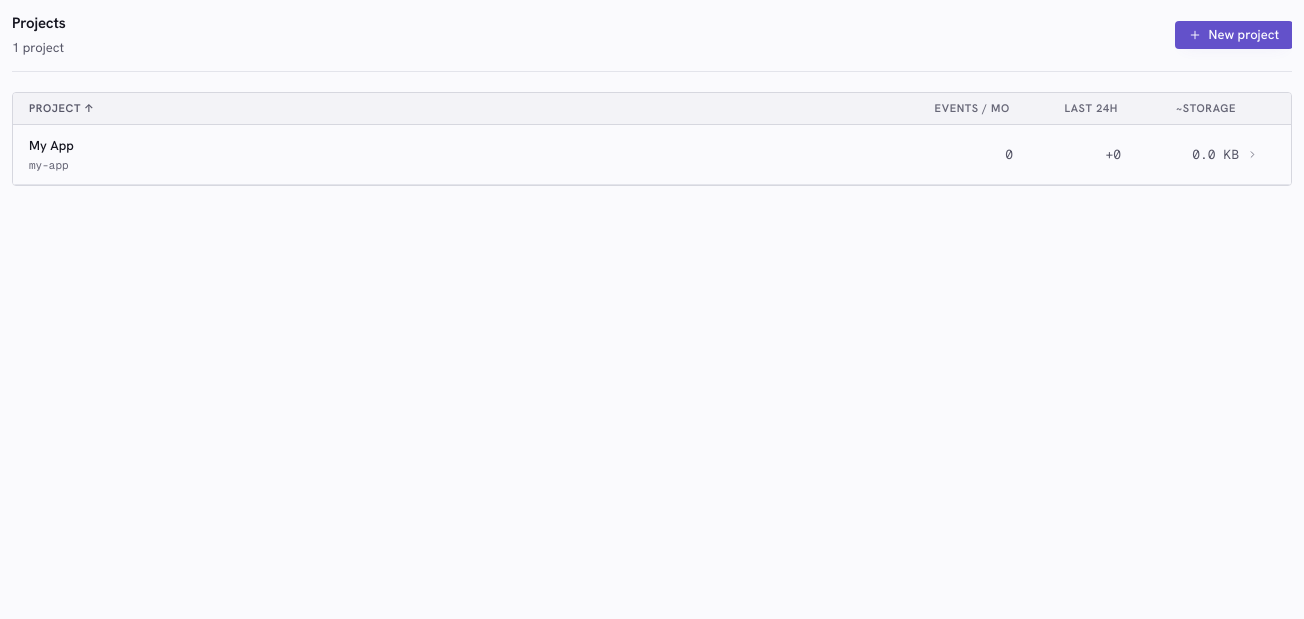
it: ProjectsTab › direct render › expands a project card when its header is clicked
Click the button "My App my-app 0 +0 0.0 KB": (51, 145) [13,126,1291,184]
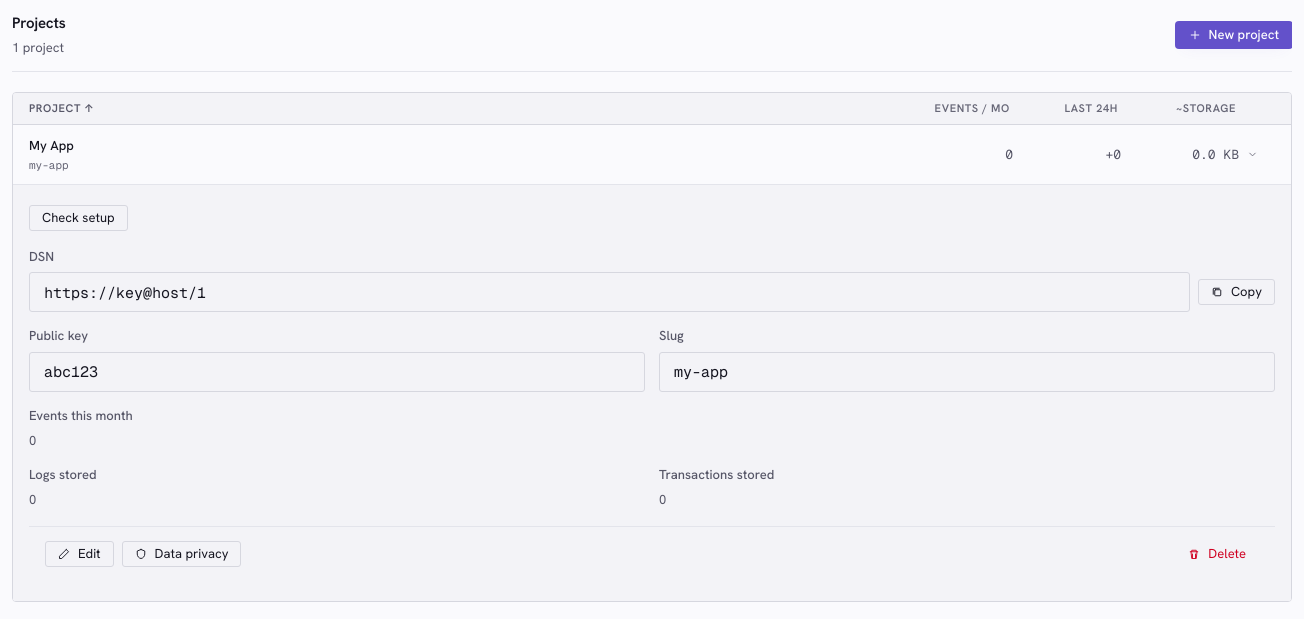
Check: the element that starts with "Check setup" is shown
